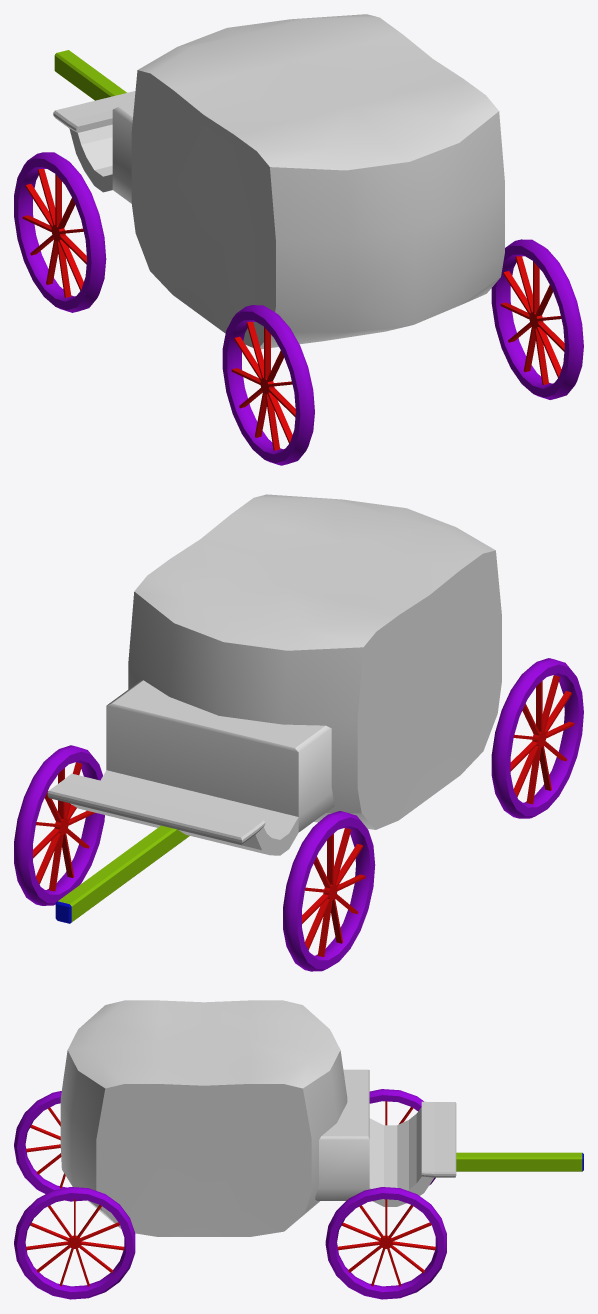
The model's file is Carriages.fbx.
3 renders of one model, top to bottom at view 1: azimuth 30°, elevation 25°; view 2: azimuth 150°, elevation 25°; view 3: azimuth 270°, elevation 25°, orthographic. The views are drawn at different scales.
Visible parts, largest first — view 1: Box003, whwwl, whwwl001, whwwl002, Box004, Box005; view 2: Box003, Box004, whwwl, whwwl001, whwwl003, Box005; view 3: Box003, Box004, whwwl003, whwwl002, Box005, whwwl, whwwl001.
Part boxes in pixels (left/top/right/bottom): Box003: left=131, top=14, right=504, bottom=349; whwwl: left=222, top=305, right=314, bottom=465; whwwl001: left=14, top=152, right=106, bottom=312; whwwl002: left=491, top=239, right=583, bottom=399; Box004: left=53, top=91, right=135, bottom=203; Box005: left=54, top=50, right=126, bottom=100; Box003: left=128, top=494, right=501, bottom=829; Box004: left=47, top=680, right=334, bottom=855; whwwl: left=491, top=658, right=583, bottom=818; whwwl001: left=283, top=811, right=375, bottom=971; whwwl003: left=14, top=745, right=104, bottom=905; Box005: left=55, top=825, right=189, bottom=923; Box003: left=60, top=1000, right=347, bottom=1236; Box004: left=315, top=1069, right=456, bottom=1206; whwwl003: left=325, top=1187, right=446, bottom=1299; whwwl002: left=14, top=1187, right=135, bottom=1299; Box005: left=456, top=1152, right=583, bottom=1171; whwwl: left=14, top=1091, right=86, bottom=1201; whwwl001: left=369, top=1089, right=435, bottom=1185.
Bounding box in the file's own units: 342 × 321 × 798.
